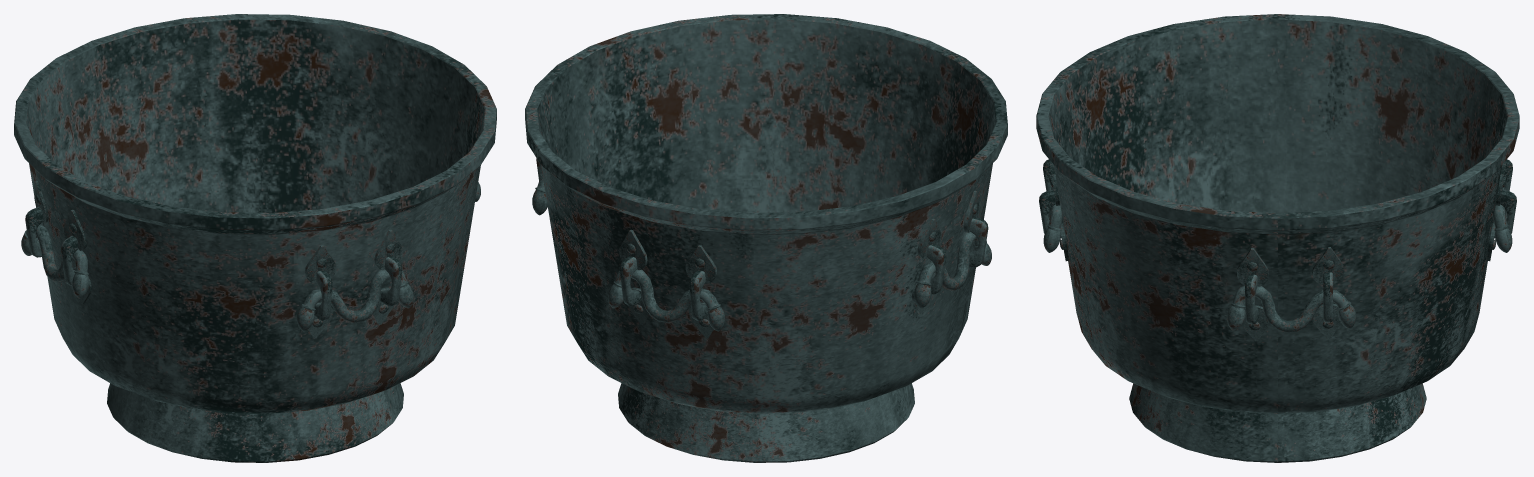
File: SM_Dumu01A.fbx
The picture shows the model from 3 angles, left to right: view 1: azimuth 30°, elevation 25°; view 2: azimuth 150°, elevation 25°; view 3: azimuth 270°, elevation 25°; orthographic projection.
Visible parts, largest first — view 1: SM_Dumu01A; view 2: SM_Dumu01A; view 3: SM_Dumu01A.
Part boxes in pixels (left/top/right/bottom): SM_Dumu01A: left=14, top=14, right=496, bottom=462; SM_Dumu01A: left=525, top=14, right=1007, bottom=462; SM_Dumu01A: left=1036, top=14, right=1519, bottom=462.
Size of the model in its own units: 95.36 by 95.36 by 62.02.
